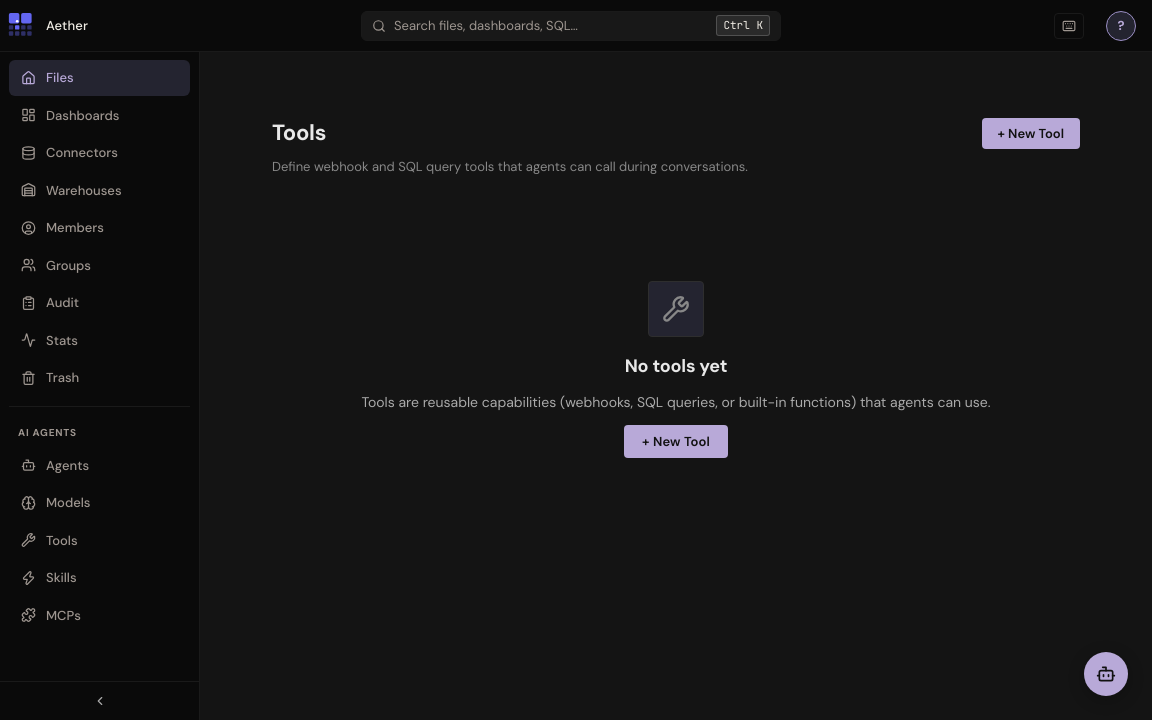
Scenario: ToolsPage › a new sql_query tool with no connector shows no unavailable hint
Expected: the text "No tools yet" is shown, [625,352,727,380]
Click the 1st button "+ New Tool": [1031, 134] box [982,118,1080,149]
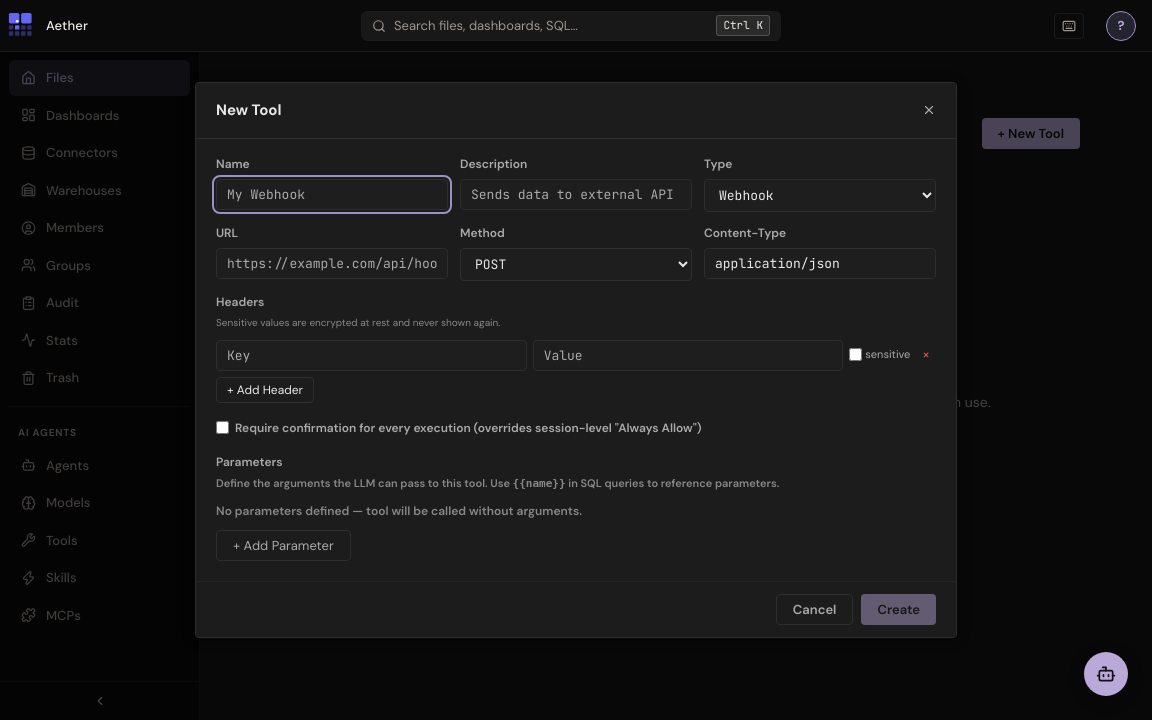
Select "SQL Query" in the dropdown labelled "Type": [820, 195] box [704,178,936,212]
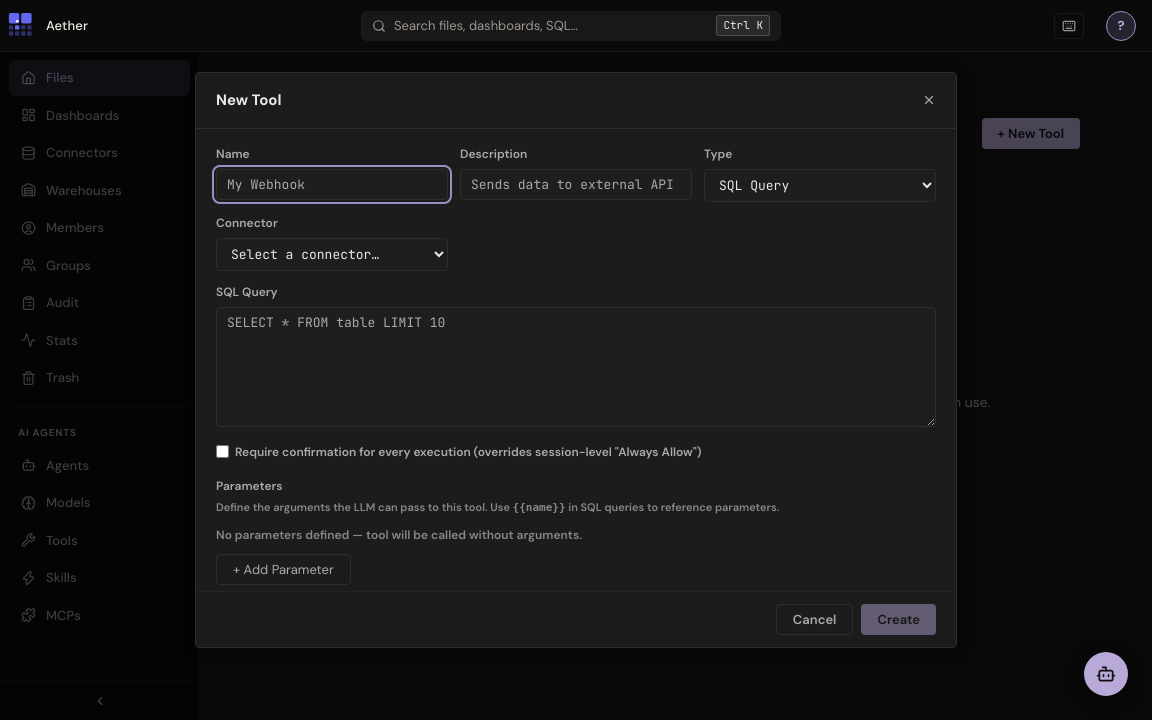
Expected: the dropdown labelled "Connector" shows "Select a connector…", [216,238,448,270]
